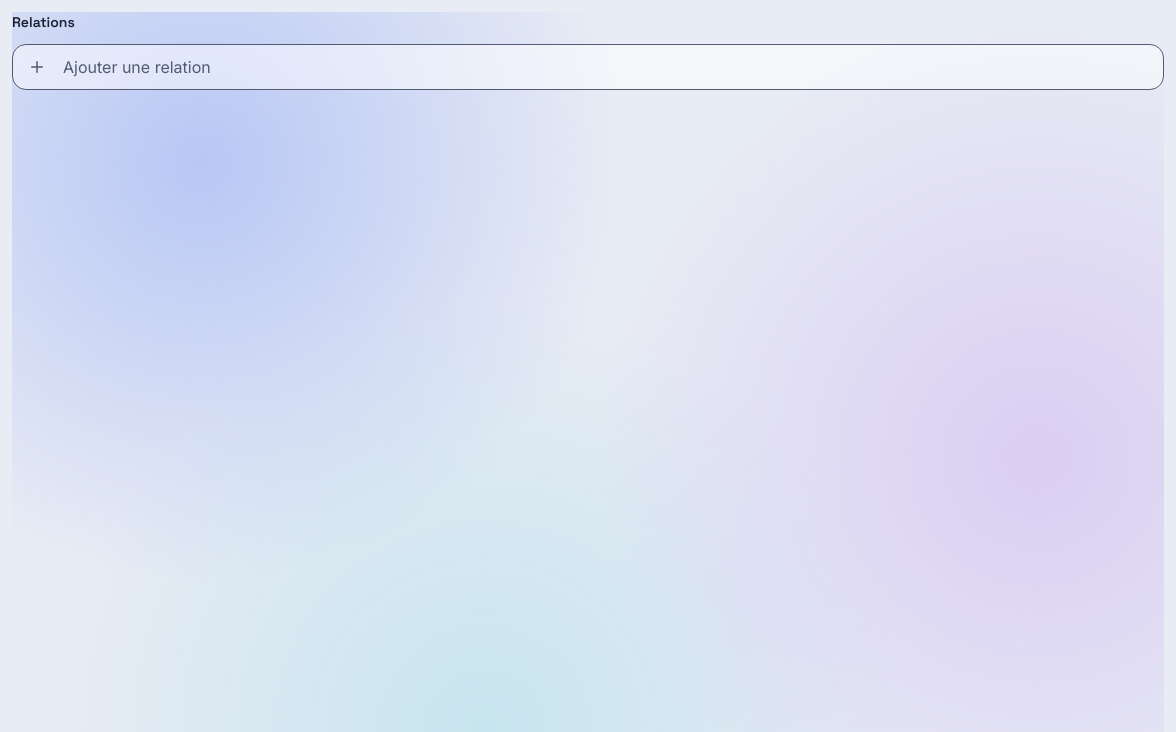
Scenario: section « Relations » du détail › Échap ferme sans écrire et rend le focus au bouton d'ajout
Click the button "Ajouter une relation" at {"x": 137, "y": 67}, box [12, 44, 1164, 90]
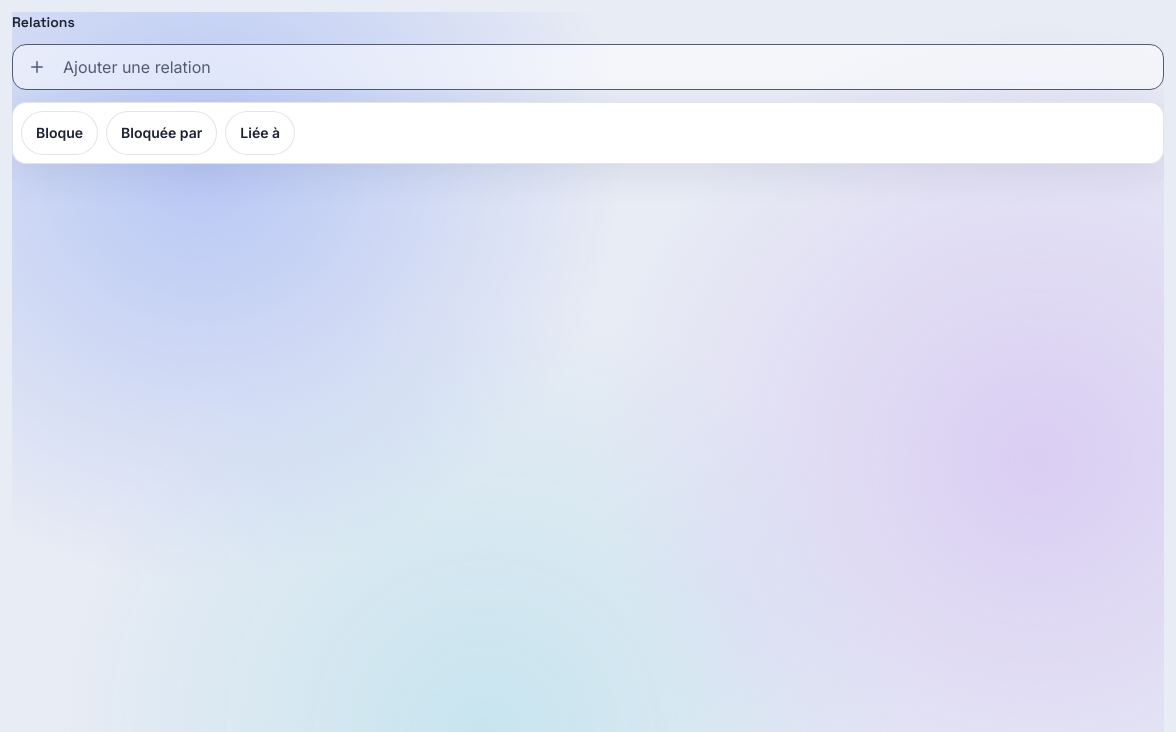
Click the button "Liée à" at {"x": 260, "y": 133}, box [225, 111, 295, 155]
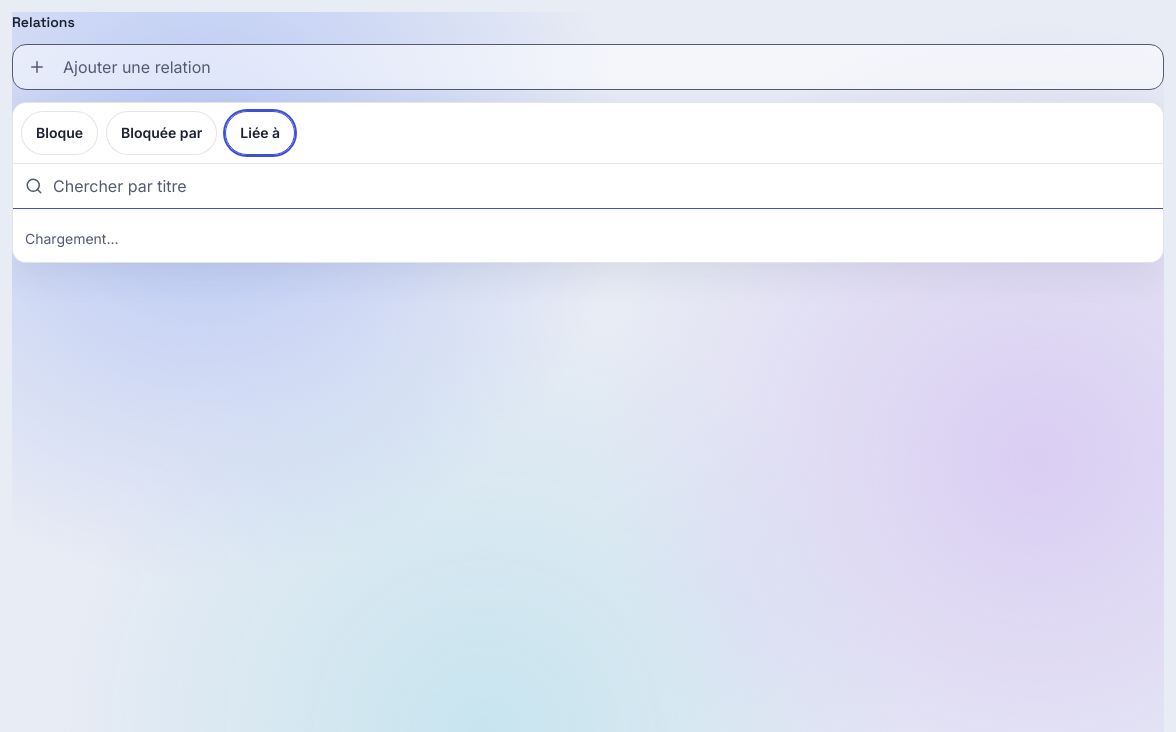
Press Escape in the dropdown, box [53, 164, 1151, 208]
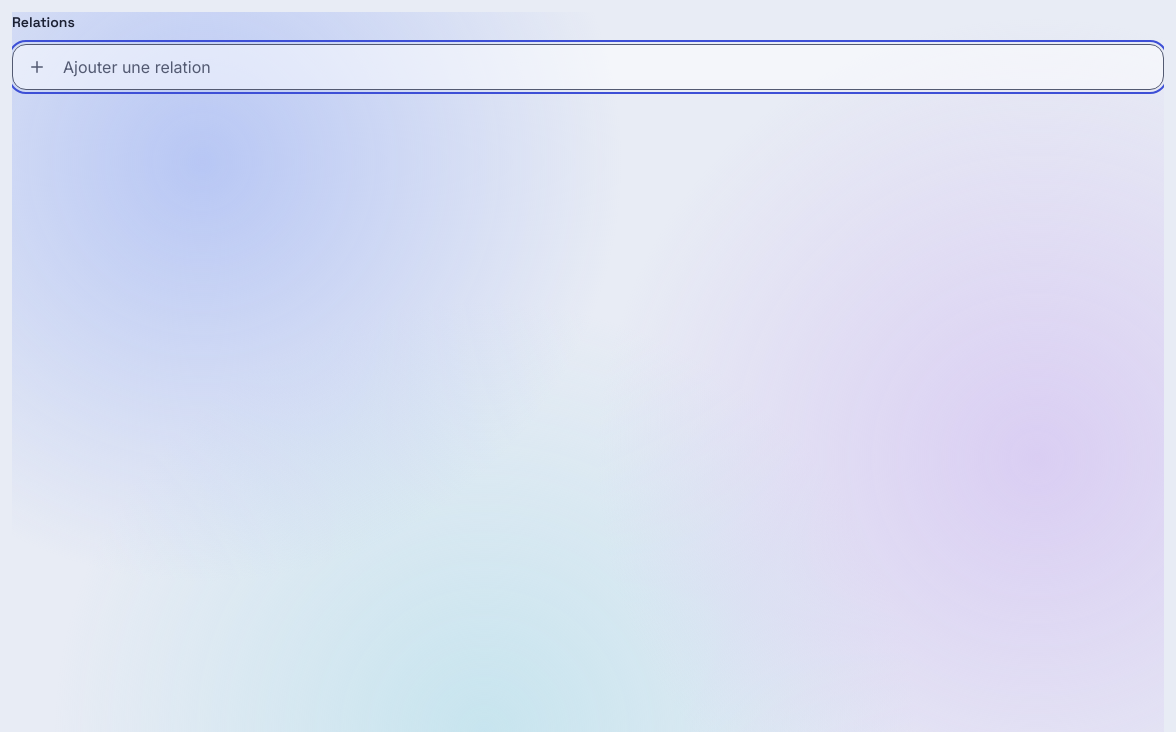
Result: the dropdown is gone
